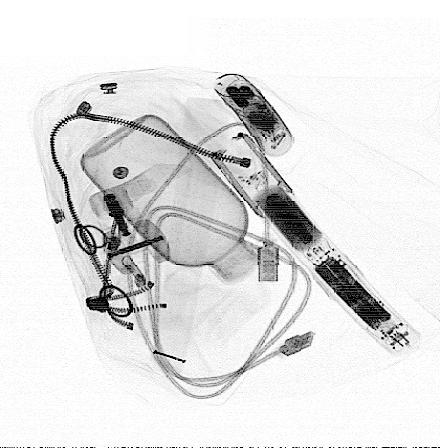Baton: (209, 133, 421, 360), (212, 72, 294, 158)
